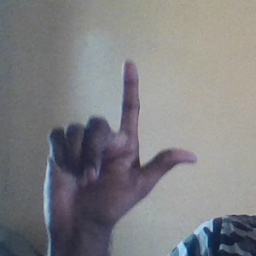L: (40, 59, 199, 223)
